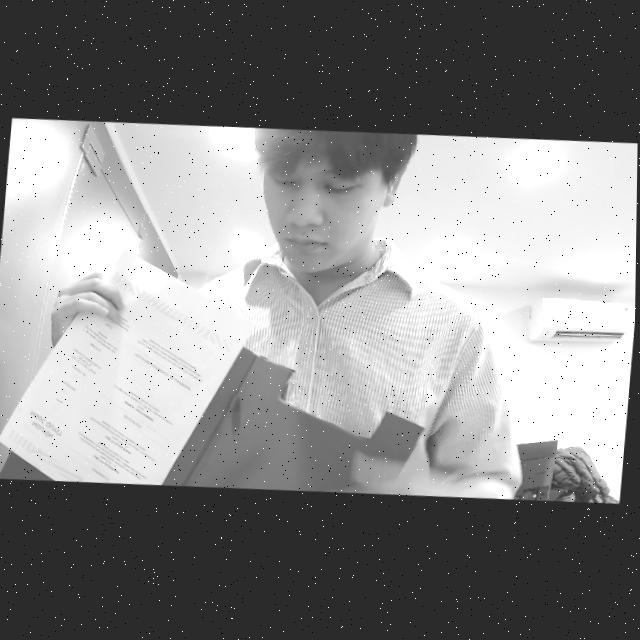document: (0, 248, 256, 485)
face: (254, 143, 386, 278)
